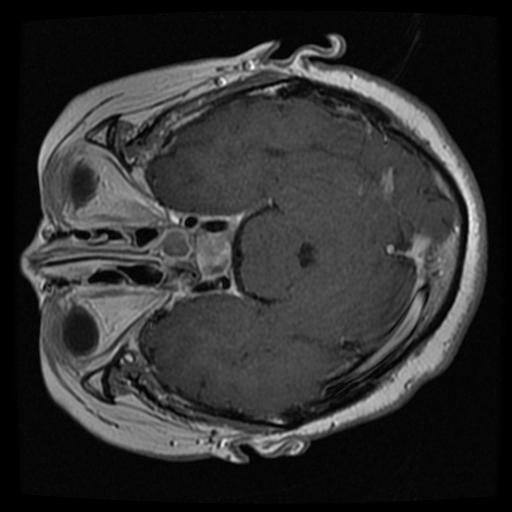pituitary tumour: (193, 233, 232, 279)
